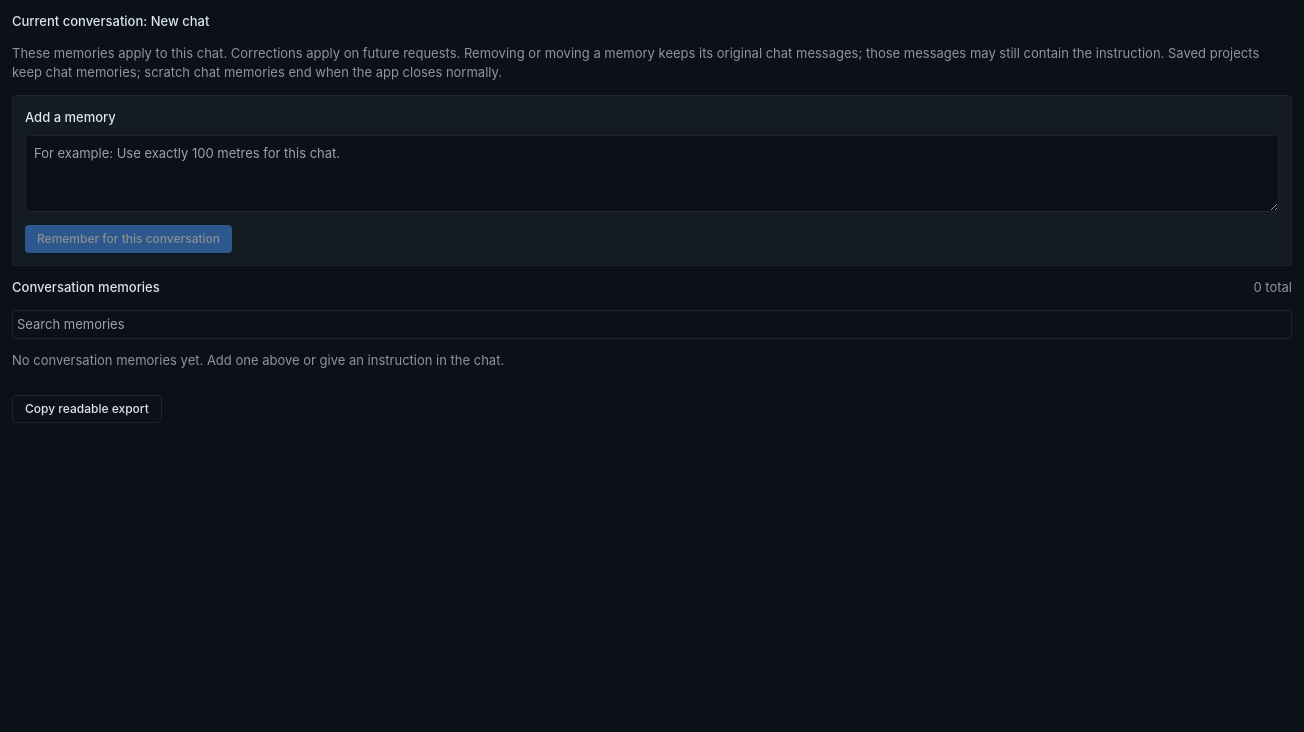
Test: moves to project memory only after the destination saves successfully
The image size is (1304, 732).
Type "Buffer distance is exactly 100 metres." into the text box named "New memory" at point(652, 173), box [25, 135, 1279, 212]
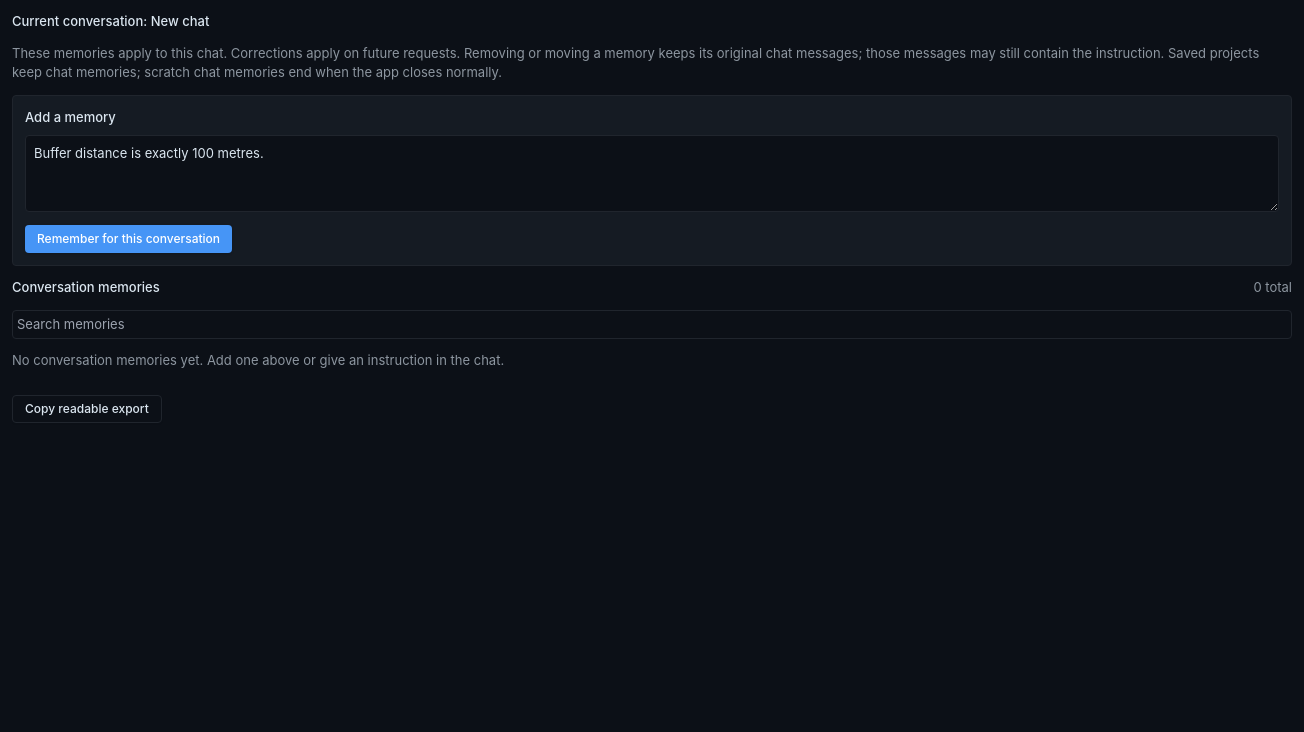
Click the button "Remember for this conversation" at point(129, 239), box [25, 225, 232, 253]
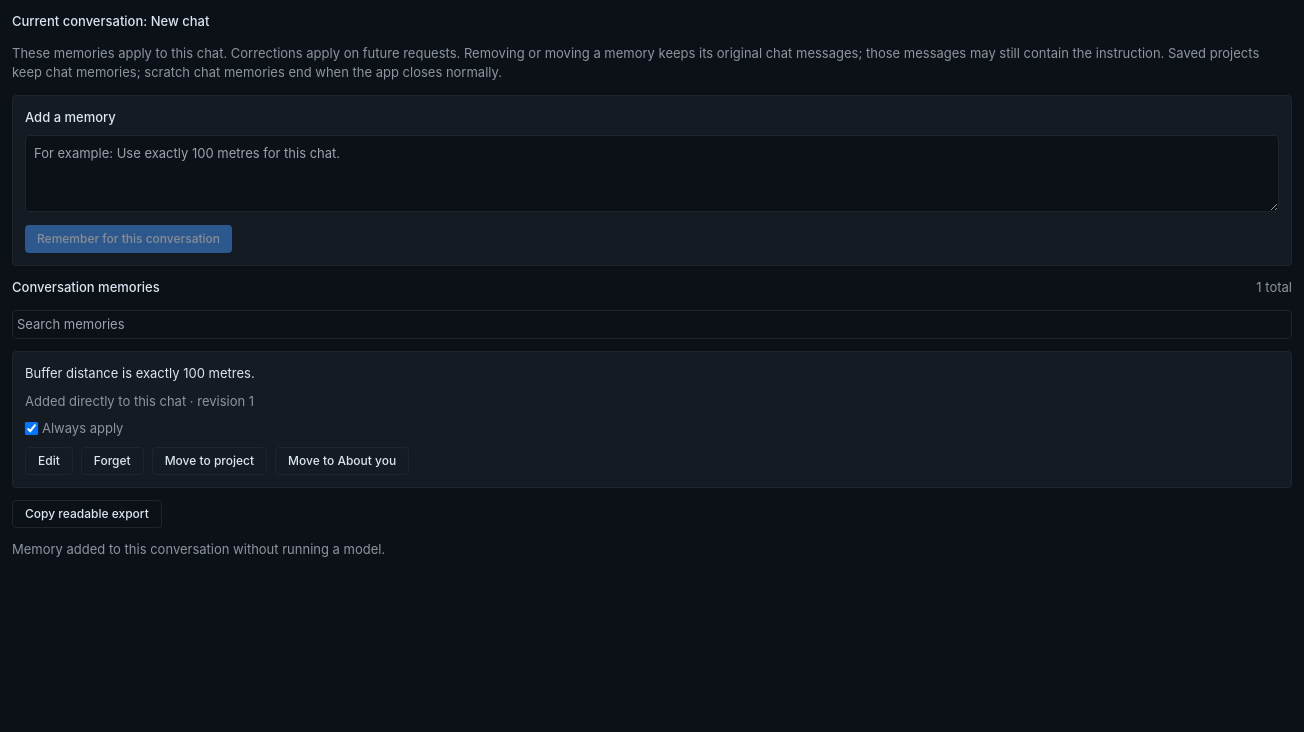
Expected: the message shows "without running a model", [12, 540, 385, 556]
Click the button "Move to project" at point(209, 460), box [152, 446, 267, 474]
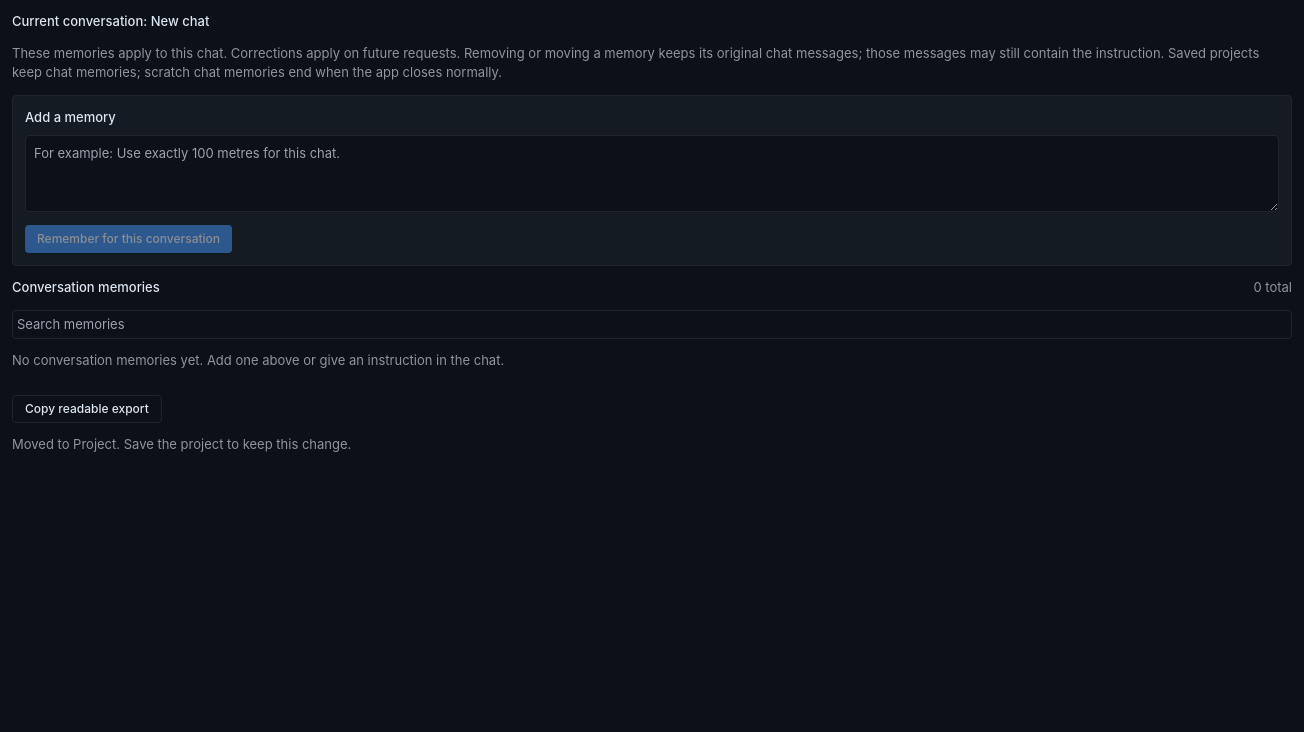
Expected: the message shows "Moved to Project", [12, 436, 351, 452]
